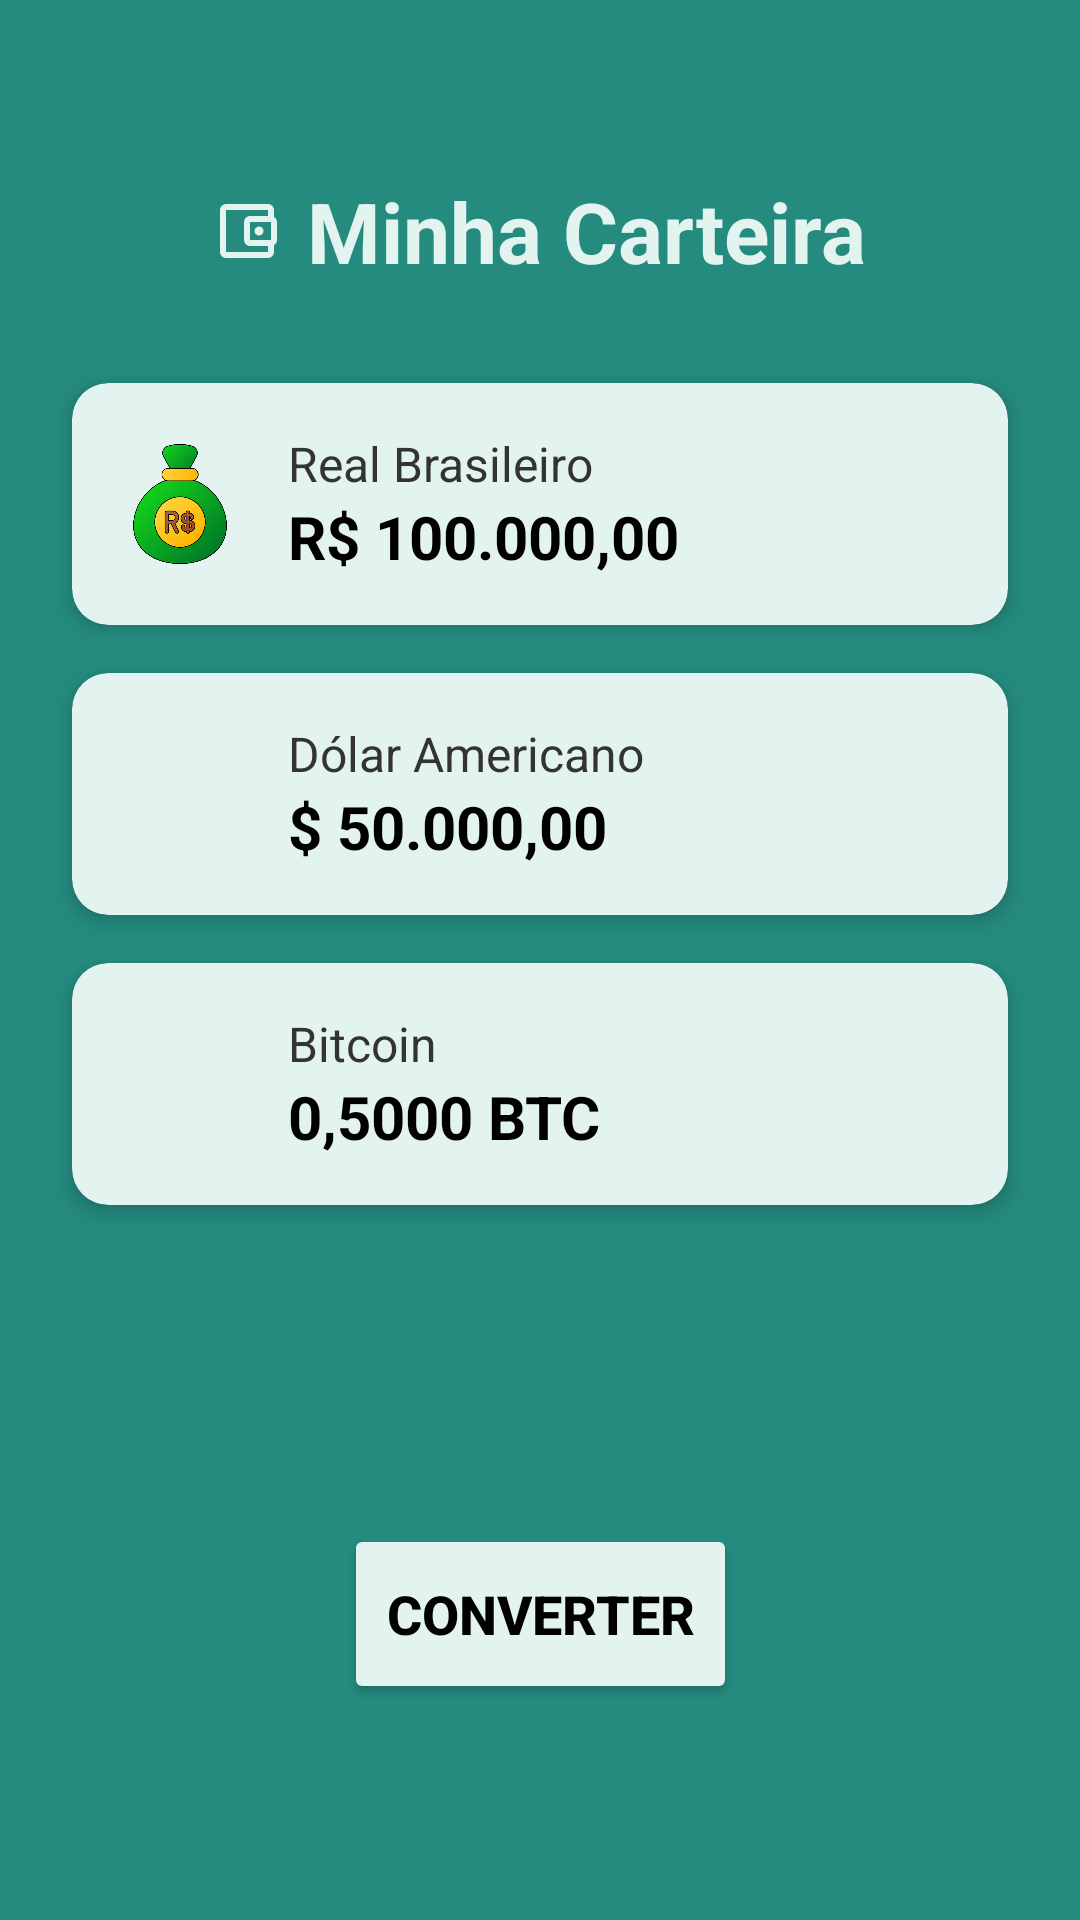

Where icons sit on this 1080*1920 app screen, as (x1, y1, x2, y2):
Ícone Real: (133, 444, 227, 564)
